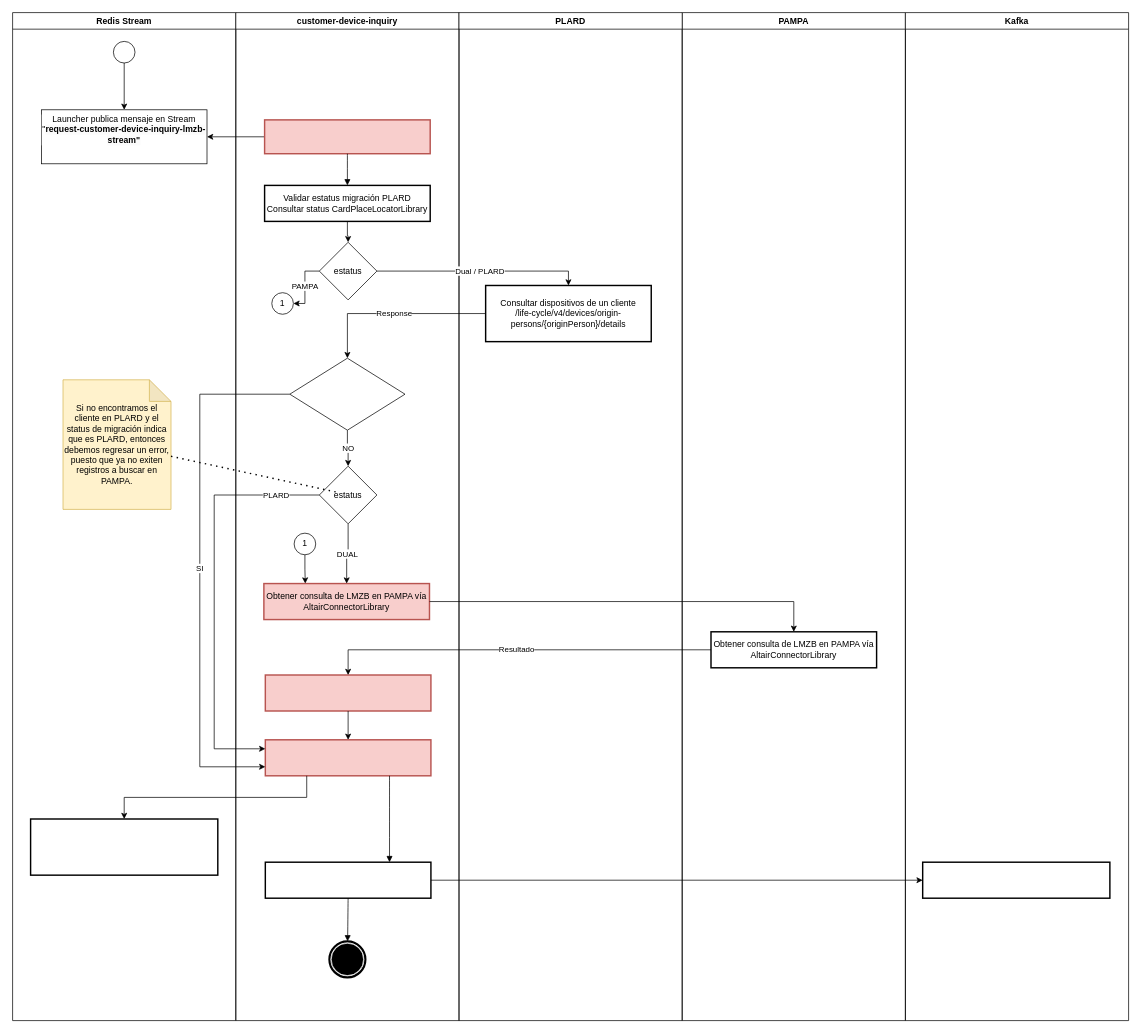
Image size: 1141x1033. Some labels were removed from this diagram. The shapes that lost their labels are listed below. From the top down, each one's centre as x and y in pixels, then its label:
At (x=347, y=136): "Recibir mensaje de Redis Stream".
At (x=347, y=393): "¿Existen resultados para el cliente?".
At (x=347, y=692): "Procesar respuesta".
At (x=347, y=757): "Construir respuesta para el Launcher Mensaje en formato PS7".
At (x=124, y=847): "Publicar mensaje respuesta response-customer-device-inquiry-lmzb-stream".
At (x=347, y=880): "Generar pista de auditoría".
At (x=1016, y=880): "Publicar pista de auditoría en tópico de Kafka".
